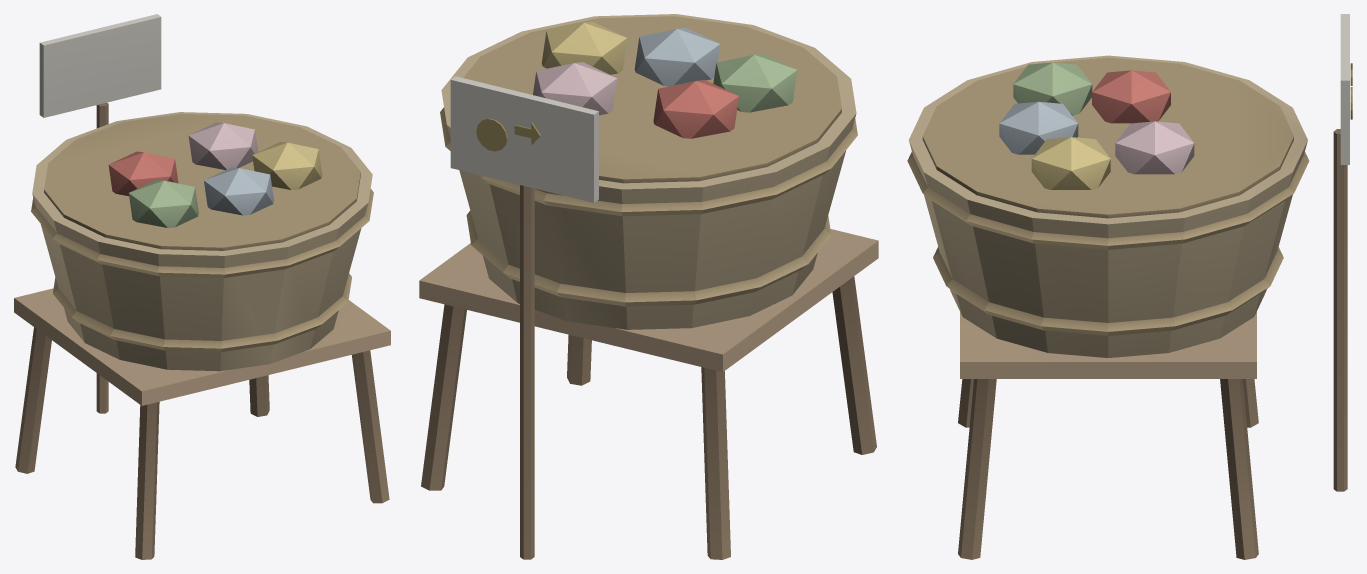
File: mall_sell_basket.glb
3 renders of one model, left to right at view 1: azimuth 30°, elevation 25°; view 2: azimuth 150°, elevation 25°; view 3: azimuth 270°, elevation 25°, orthographic. The views are drawn at different scales.
Parts seen in each view (by area): view 1: mall.sell_basket; view 2: mall.sell_basket; view 3: mall.sell_basket.
Boxes of the visible parts, x1,y1,x2,y2 form: mall.sell_basket: [14, 14, 390, 559]; mall.sell_basket: [419, 14, 878, 559]; mall.sell_basket: [907, 14, 1352, 559].
Size of the model in its own units: 0.866 by 1.05 by 0.959.
